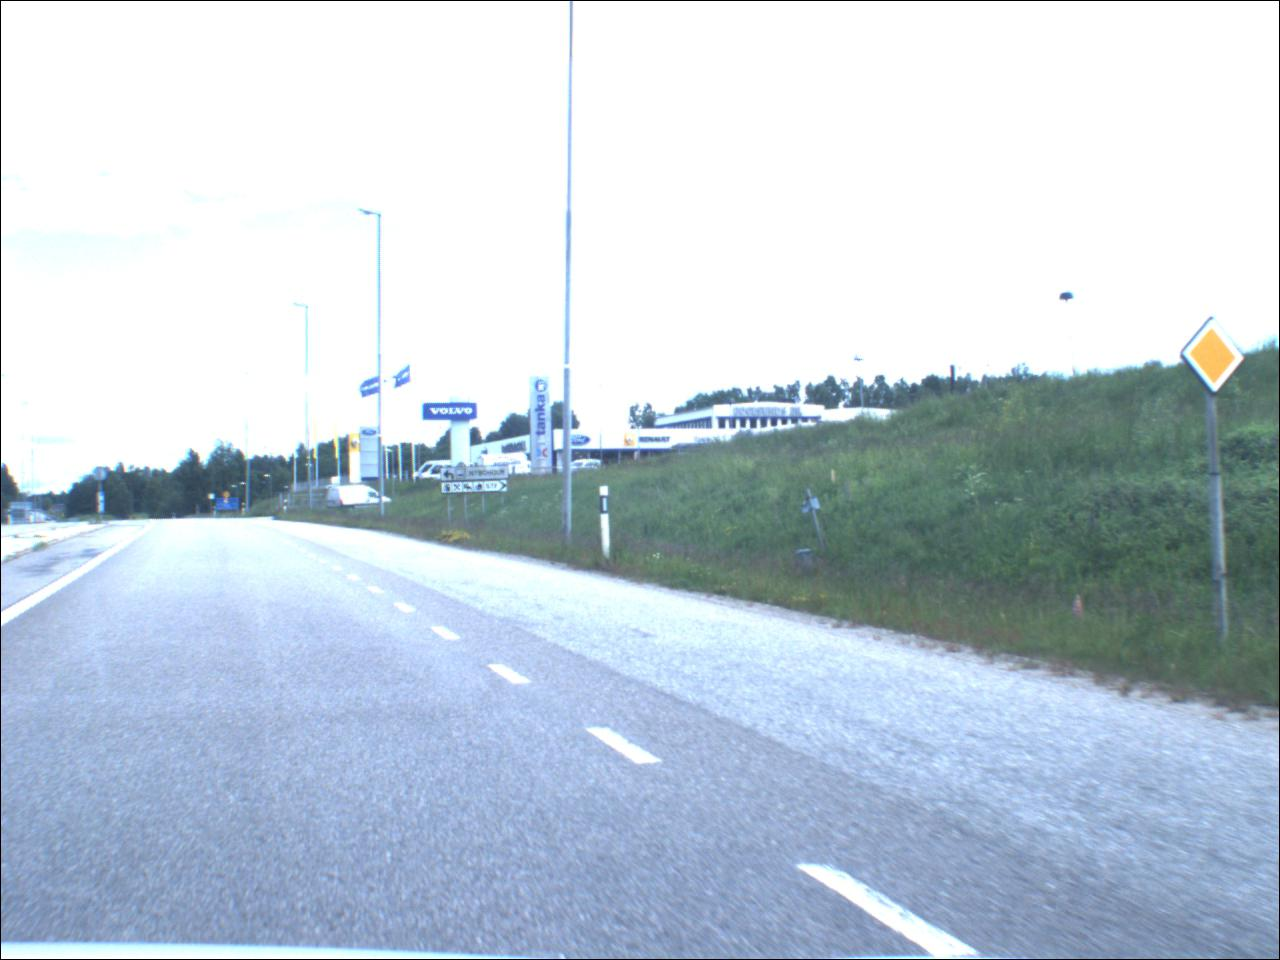PRIORITY_ROAD: (1184, 316, 1246, 396)
